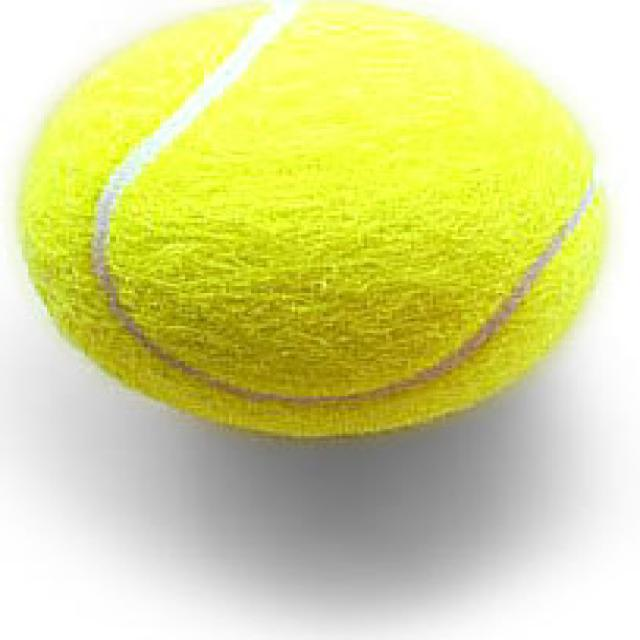Tennis Ball: (13, 0, 609, 443)
